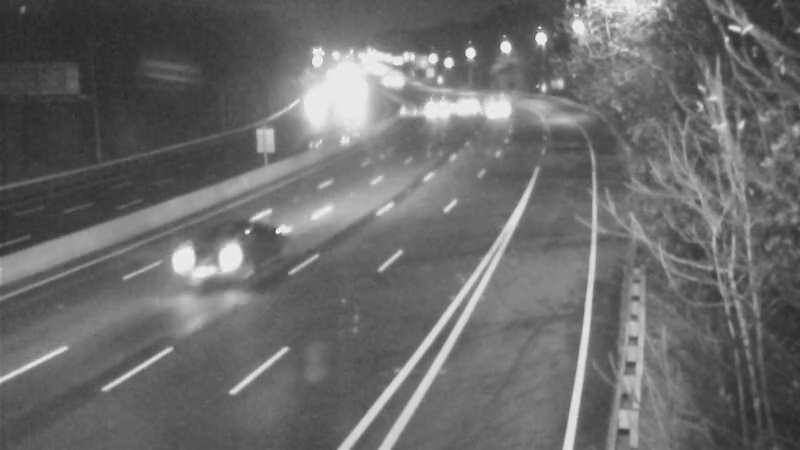vehicle: (161, 223, 241, 303), (476, 85, 526, 135), (441, 75, 491, 125), (411, 76, 461, 126)
